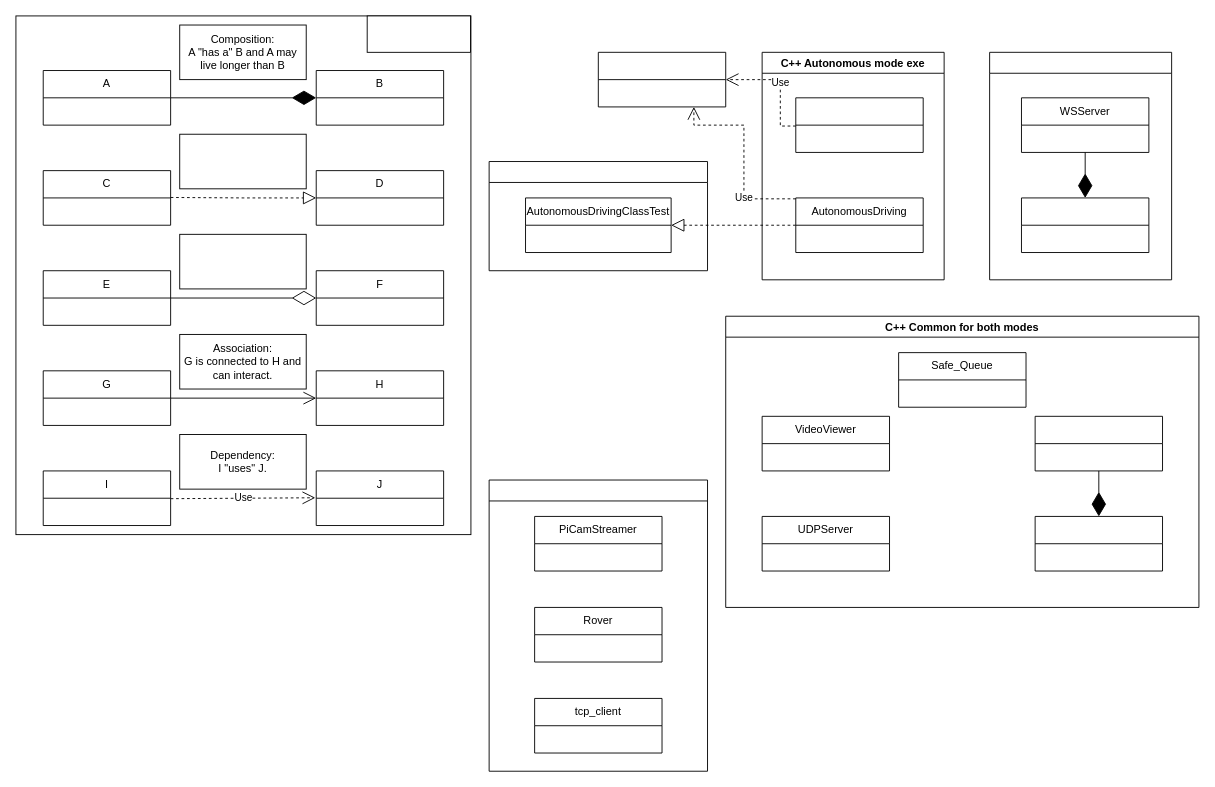
Image size: 1215x787. Some labels were removed from this diagram. Here are the shapes that lost their labels. From the top down, the box of each, then its label:
(366, 15, 470, 52): LEGEND
(597, 51, 726, 107): Detection
(795, 97, 923, 152): ObjectDetection
(179, 133, 306, 189): Realization: C implements D
(989, 51, 1172, 280): C++ Manual mode exe
(488, 161, 708, 271): Catch2 Testing C++
(1021, 197, 1149, 253): WSConnection
(179, 233, 306, 289): Aggregation: E "has a" F and F may exist without E
(1034, 415, 1163, 471): TCPServer
(1034, 516, 1163, 571): TCPConnection
(488, 479, 708, 771): Python common for both modes
